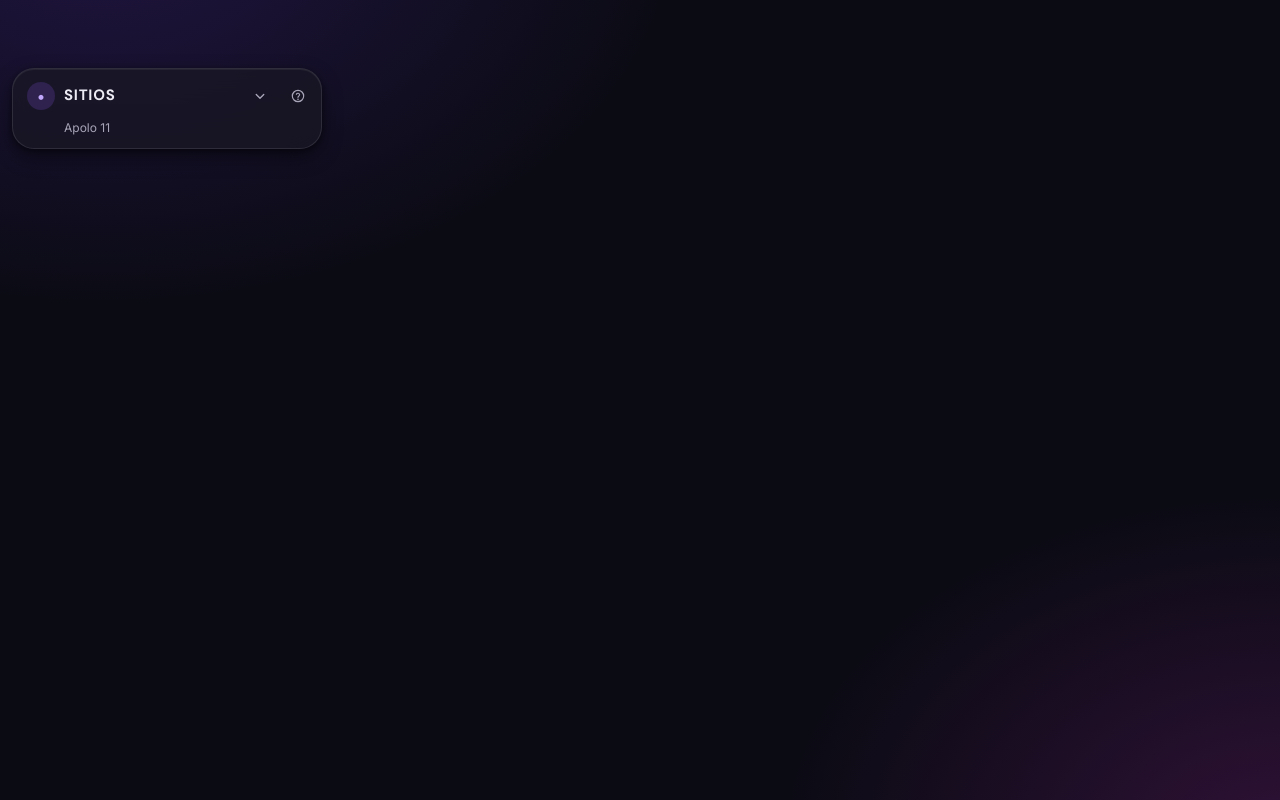
Test: CollapsiblePanel › opens its contextual help
The image size is (1280, 800).
What coordinates should you click on to do the following:
click the button named "Ayuda"
I would click on:
 (298, 96)
Its box is [283, 81, 313, 111].
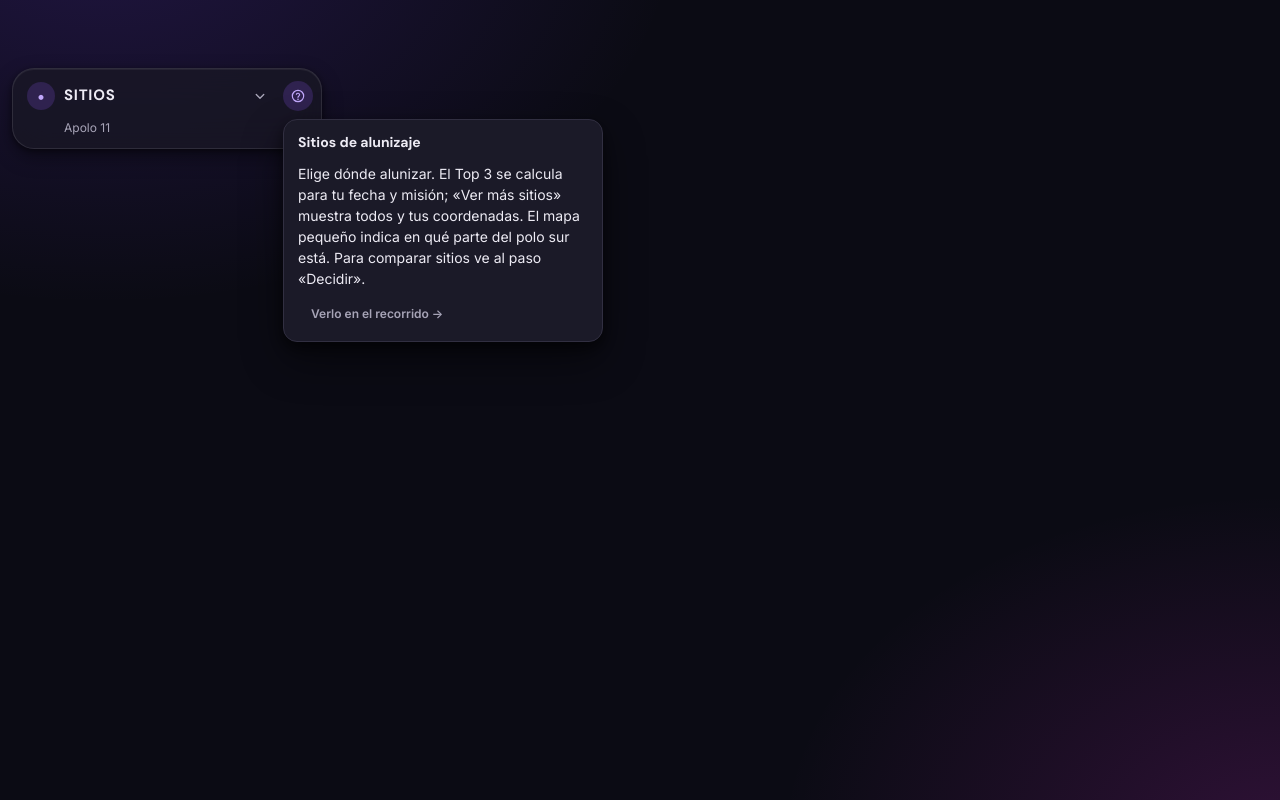
Result: the dialog shows "Elige dónde alunizar" at [298, 165, 580, 287]
